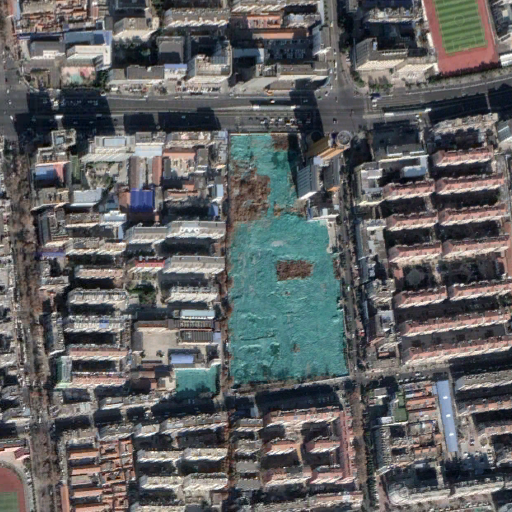cw: (225, 132, 351, 390), (176, 367, 220, 398)
